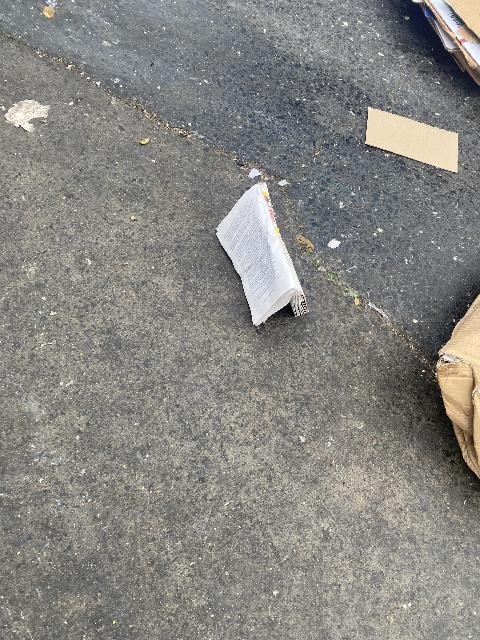Kagit: (200, 167, 335, 330), (427, 265, 479, 505), (360, 95, 462, 183), (394, 0, 480, 98), (0, 84, 51, 156)
